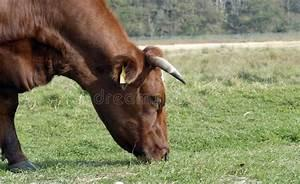cow: (0, 0, 185, 173)
